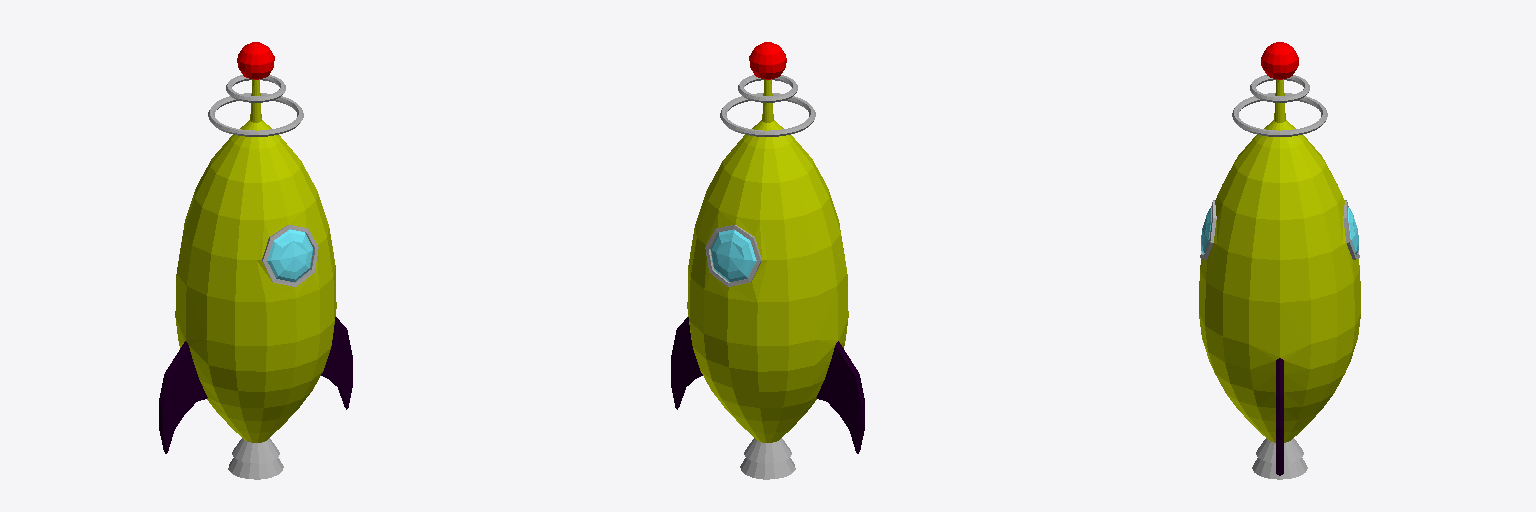
Rendered from YellowSpaceShip.obj.
3 renders of one model, left to right at view 1: azimuth 30°, elevation 25°; view 2: azimuth 150°, elevation 25°; view 3: azimuth 270°, elevation 25°, orthographic.
Visible parts, largest first — view 1: YellowSpaceShip1; view 2: YellowSpaceShip1; view 3: YellowSpaceShip1.
Boxes of the visible parts, <box> form: YellowSpaceShip1: <box>159,42,352,479</box>; YellowSpaceShip1: <box>671,42,864,479</box>; YellowSpaceShip1: <box>1199,42,1360,479</box>.
Size of the model in its own units: 67.72 by 142 by 49.25.